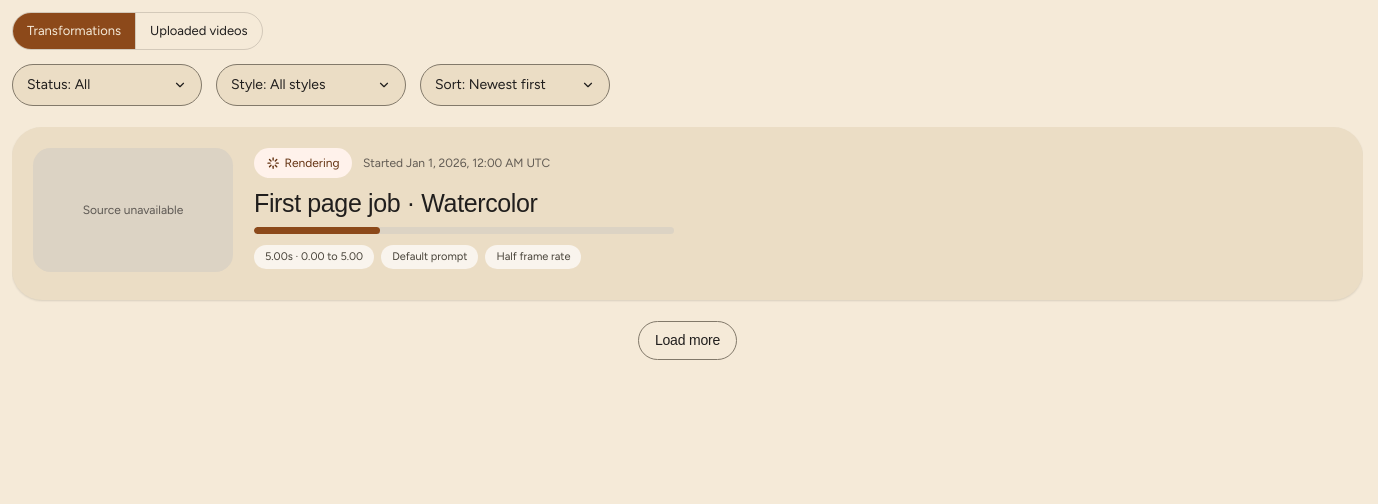
Test: HistoryView -- a load-more row still receives live refresh (Finding 1 regression) › updates a load-more row's status once the changeable poll reports it, while further pages remain exhausted
Click the button "Load more" at (688, 340), box left=638, top=321, right=737, bottom=360
Wait 3000 ms
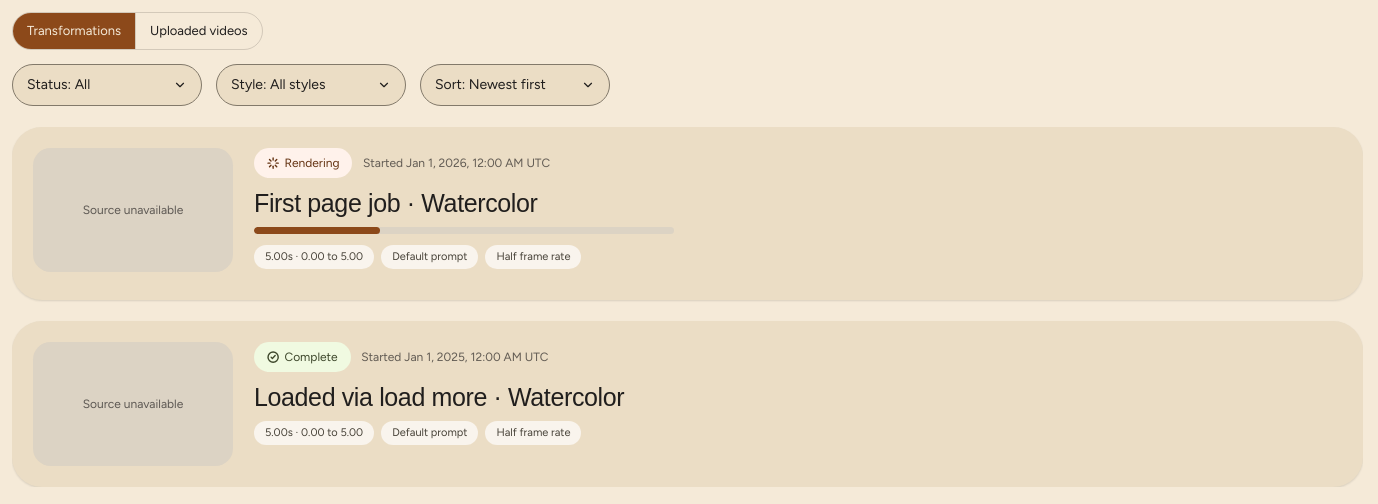
Result: the text "Complete" is shown at left=254, top=342, right=351, bottom=372
Result: the text "Loaded via load more" is shown at left=254, top=382, right=487, bottom=410
